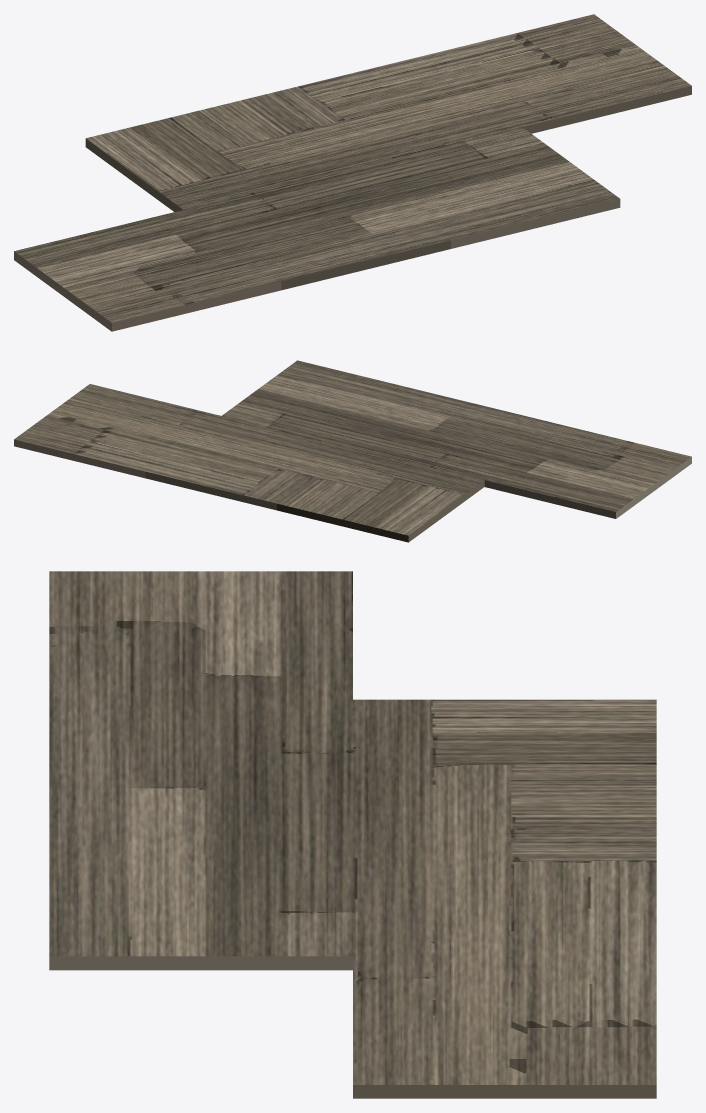
The model's file is towerfloor.glb.
3 renders of one model, top to bottom at view 1: azimuth 30°, elevation 25°; view 2: azimuth 150°, elevation 25°; view 3: azimuth 270°, elevation 25°, orthographic. The views are drawn at different scales.
Visible parts, largest first — view 1: towerFloor; view 2: towerFloor; view 3: towerFloor.
Boxes of the visible parts, x1=… form: towerFloor: x1=14, y1=14, x2=691, y2=331; towerFloor: x1=14, y1=360, x2=691, y2=542; towerFloor: x1=49, y1=571, x2=656, y2=1098.
Bounding box in the file's own units: 6 × 0.075 × 3.
Materials: 1 (1 with a texture image).
